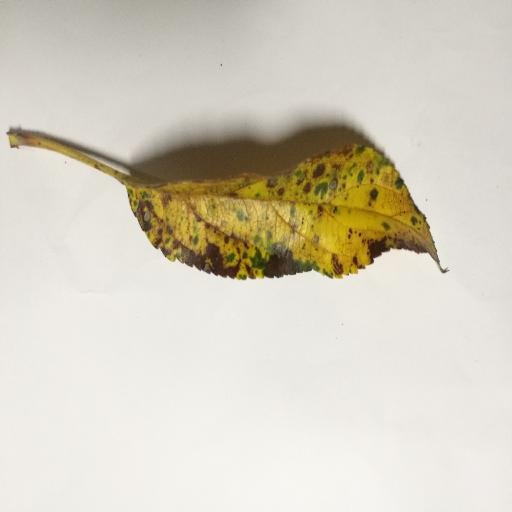Brown_Spot: (150, 177, 406, 269)
